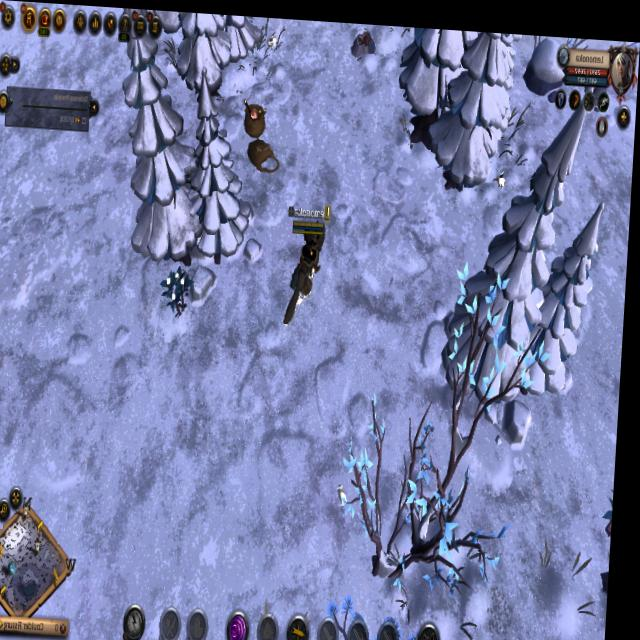fiber tier 4: (161, 260, 198, 318)
